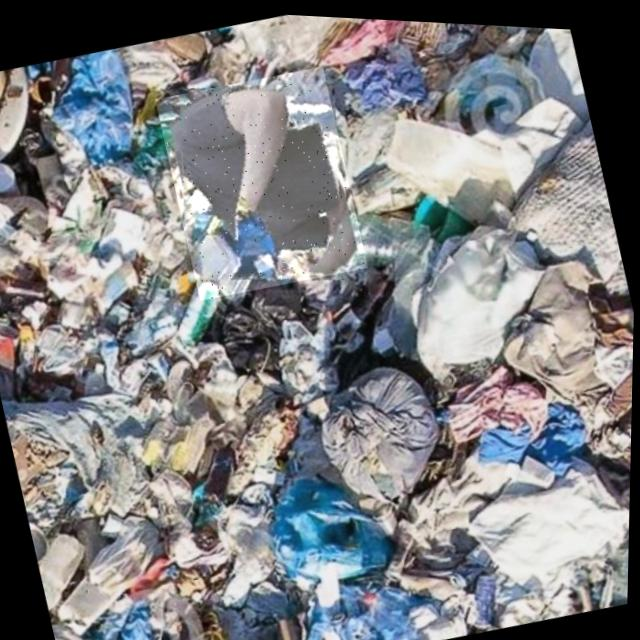Person in Rubble: (151, 55, 373, 305)
